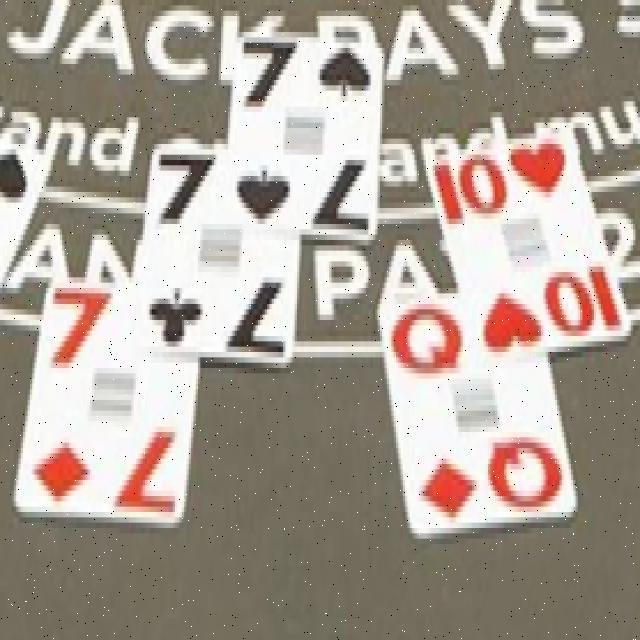Card-10: (425, 126, 630, 365)
Card-7: (14, 279, 197, 518), (132, 142, 300, 369), (229, 28, 385, 237)
Card-Q: (379, 293, 578, 534)
